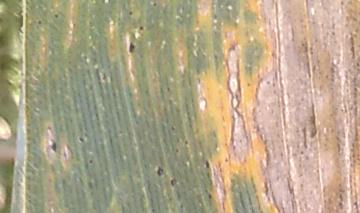tarspot: (47, 138, 61, 155), (84, 156, 100, 167), (155, 163, 165, 180), (126, 40, 137, 55), (202, 156, 212, 172), (136, 22, 148, 34), (204, 190, 216, 201), (167, 177, 180, 187), (124, 8, 136, 18), (75, 136, 88, 144), (51, 12, 63, 19)
